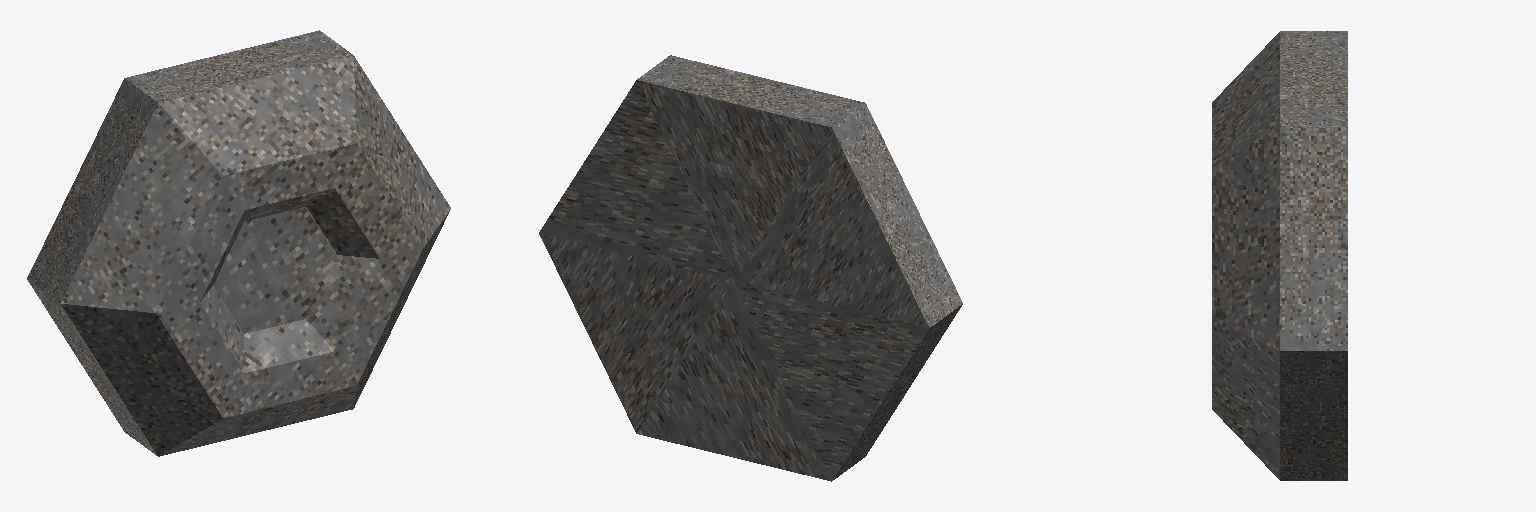
3 views of the same model, side by side, from view 1: azimuth 30°, elevation 25°; view 2: azimuth 150°, elevation 25°; view 3: azimuth 270°, elevation 25° (orthographic).
Visible parts, largest first — view 1: hex; view 2: hex; view 3: hex.
Boxes of the visible parts, <box> form: hex: <box>27,30,450,456</box>; hex: <box>539,55,962,481</box>; hex: <box>1212,31,1347,480</box>.
Bounding box in the file's own units: 2 × 1.73 × 0.6.
1 materials, 1 textured.